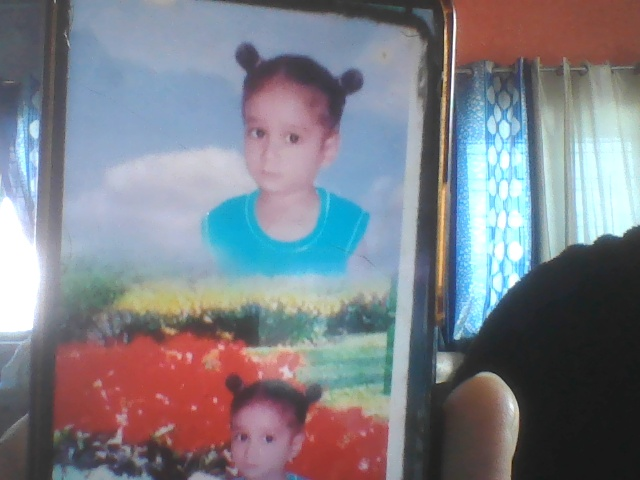fake: (238, 56, 338, 198)
